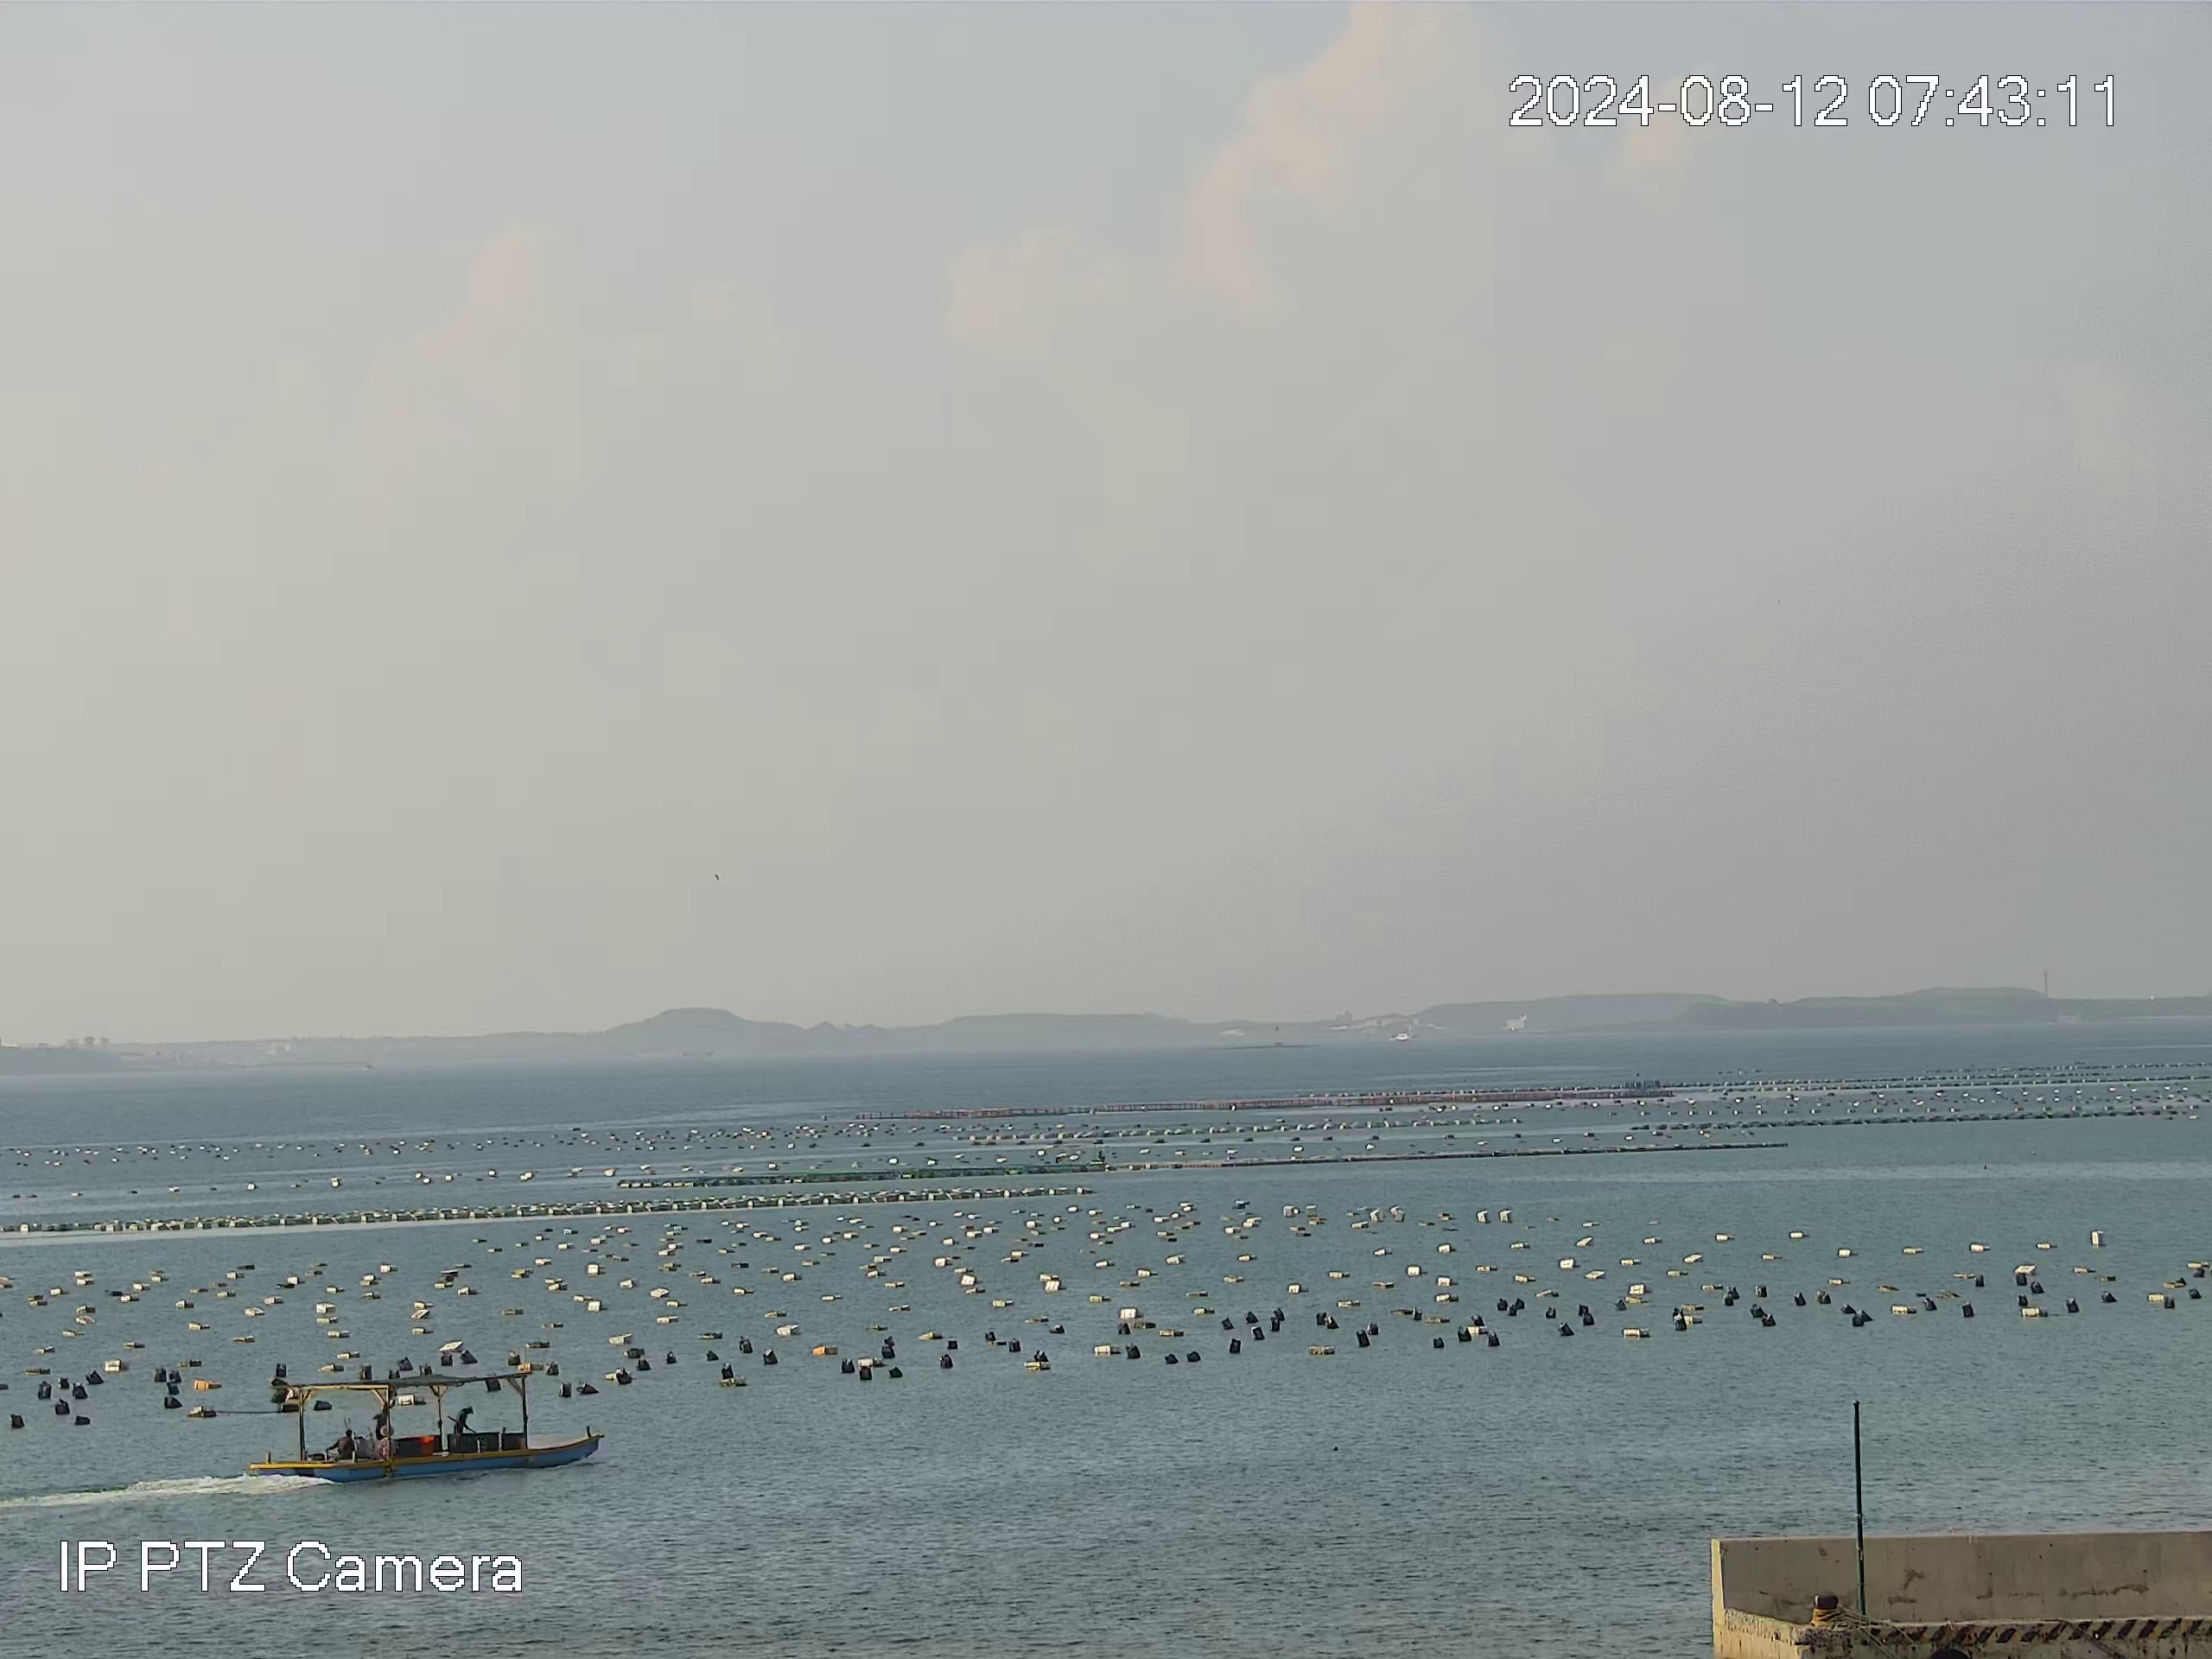boat: (237, 1358, 619, 1486)
